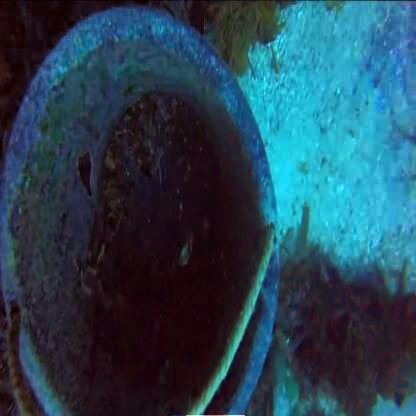plastic: (12, 37, 279, 404)
